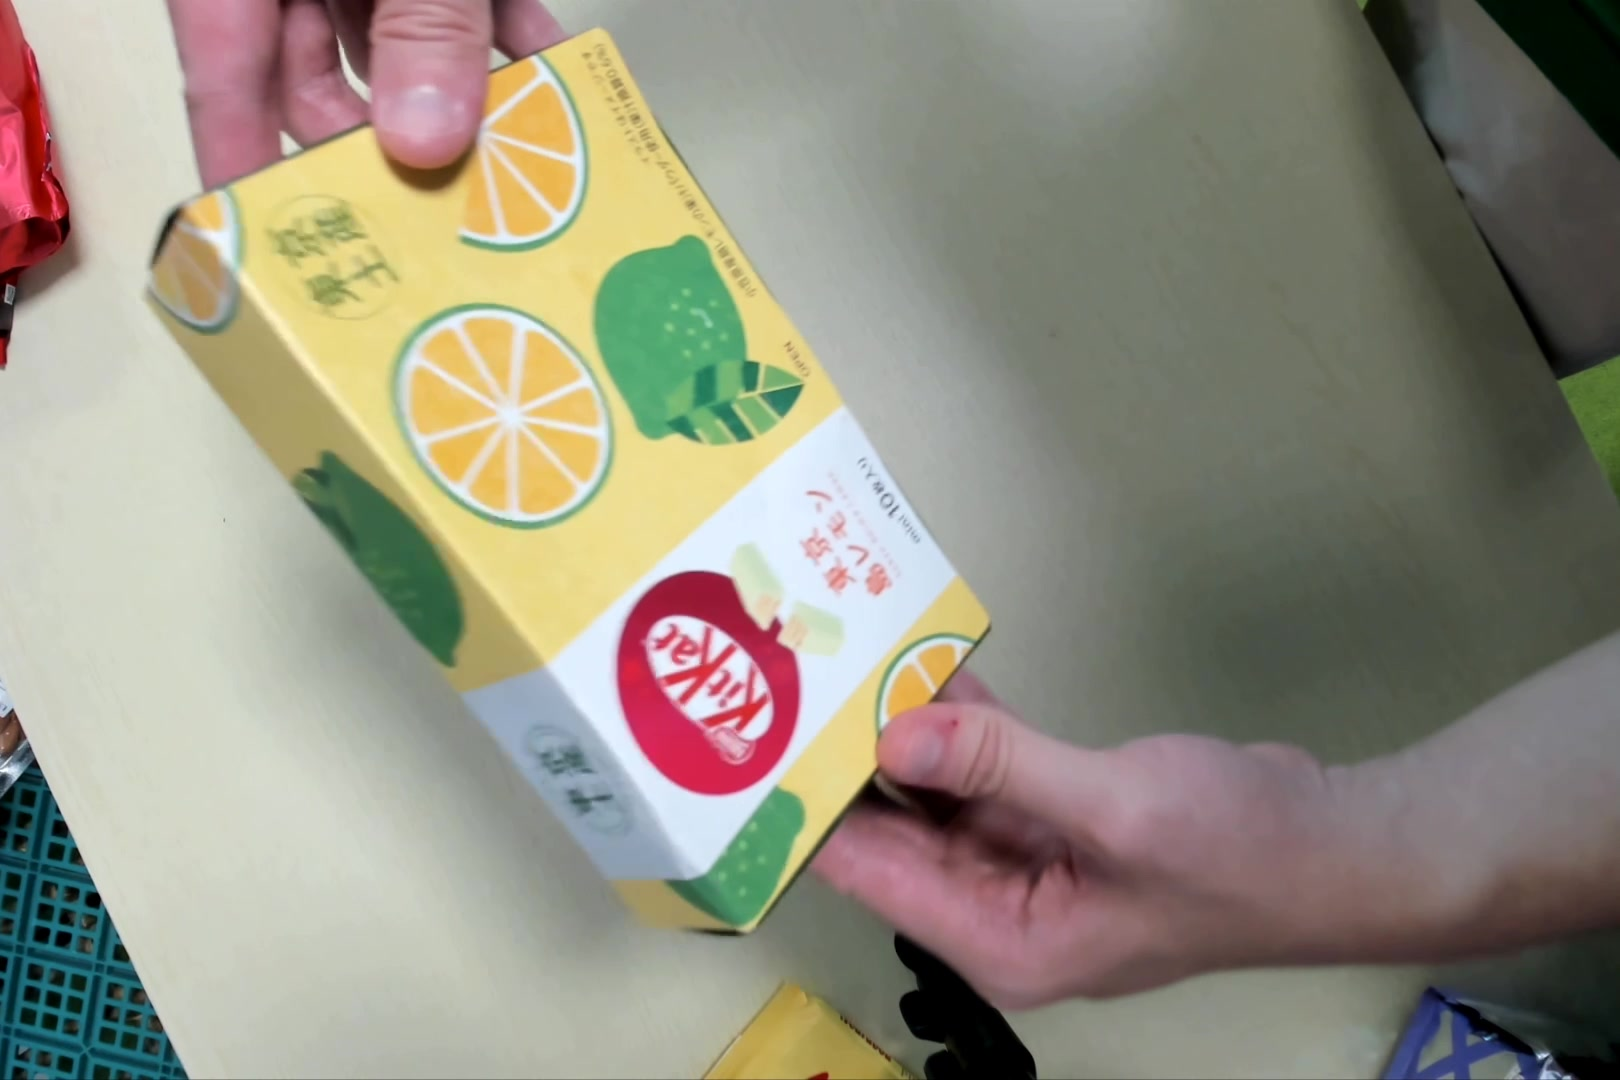SweetsChocolatesOthers_100-199g_NonHalal_NonHealthy: (147, 33, 985, 931)
